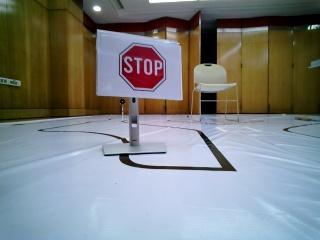stop: (109, 36, 182, 97)
